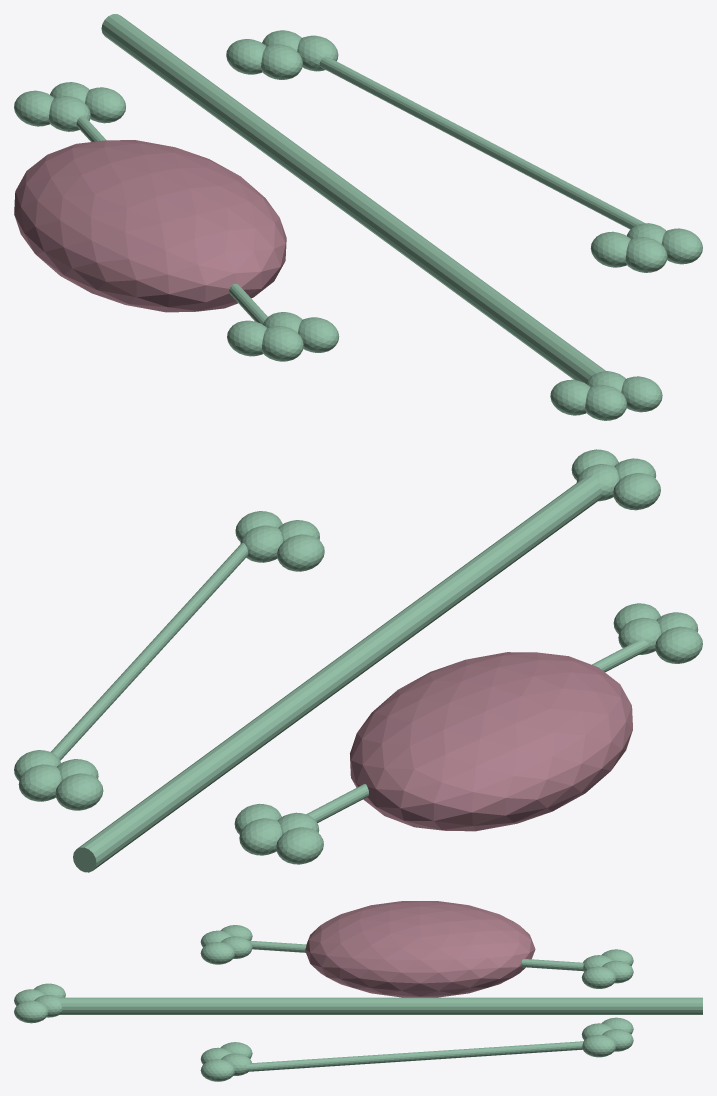
Rendered from lymphatic-g3-medium.glb.
3 views of the same model, one above another, from view 1: azimuth 30°, elevation 25°; view 2: azimuth 150°, elevation 25°; view 3: azimuth 270°, elevation 25° (orthographic). The views are drawn at different scales.
Visible parts, largest first — view 1: spleen, thoracic_duct_proxy, right_lymph_chain_proxy, axillary_right_node_2, cervical_node_2, axillary_left_node_2, inguinal_right_node_2, cervical_node_4, axillary_right_node_4, inguinal_left_node_4, axillary_left_node_4, cervical_node_1 (+7 smaller); view 2: spleen, thoracic_duct_proxy, right_lymph_chain_proxy, left_lymph_chain_proxy, cervical_node_1, inguinal_left_node_1, inguinal_right_node_1, axillary_right_node_1, axillary_left_node_1, inguinal_right_node_3, inguinal_left_node_3, axillary_right_node_3 (+7 smaller); view 3: spleen, thoracic_duct_proxy, right_lymph_chain_proxy, left_lymph_chain_proxy, axillary_right_node_4, cervical_node_4, axillary_left_node_4, inguinal_left_node_4, inguinal_right_node_4, axillary_left_node_3, inguinal_right_node_3, inguinal_left_node_3 (+11 smaller).
Boxes of the visible parts, x1,y1,x2,y2 form: spleen: (14,140,286,312); thoracic_duct_proxy: (101,14,606,383); right_lymph_chain_proxy: (320,56,644,229); axillary_right_node_2: (625,237,667,272); cervical_node_2: (585,385,627,420); axillary_left_node_2: (261,326,303,361); inguinal_right_node_2: (261,44,302,79); cervical_node_4: (621,376,662,412); axillary_right_node_4: (661,228,702,264); inguinal_left_node_4: (85,87,125,123); axillary_left_node_4: (298,317,339,352); cervical_node_1: (550,379,590,415); spleen: (350,652,632,831); thoracic_duct_proxy: (73,476,601,872); right_lymph_chain_proxy: (51,543,248,760); left_lymph_chain_proxy: (306,640,649,822); cervical_node_1: (613,473,660,510); inguinal_left_node_1: (276,827,323,864); inguinal_right_node_1: (55,773,103,810); axillary_right_node_1: (277,534,324,571); axillary_left_node_1: (655,626,702,663); inguinal_right_node_3: (18,764,61,801); inguinal_left_node_3: (239,818,282,855); axillary_right_node_3: (240,525,282,562); spleen: (305,901,535,997); thoracic_duct_proxy: (58,997,702,1014); right_lymph_chain_proxy: (245,1041,583,1071); left_lymph_chain_proxy: (249,940,583,971); axillary_right_node_4: (200,1059,234,1081); cervical_node_4: (14,1000,48,1023); axillary_left_node_4: (200,942,234,964); inguinal_left_node_4: (581,966,616,988); inguinal_right_node_4: (582,1034,616,1057); axillary_left_node_3: (221,936,252,958); inguinal_right_node_3: (602,1029,633,1051); inguinal_left_node_3: (602,960,633,983).
Bounding box in the file's own units: 1.98 × 0.4 × 3.58.
